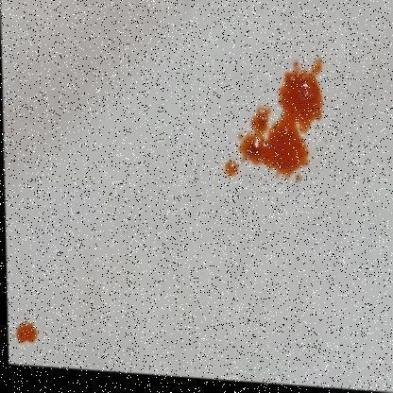kimchi: (221, 60, 327, 189), (13, 316, 35, 349)
